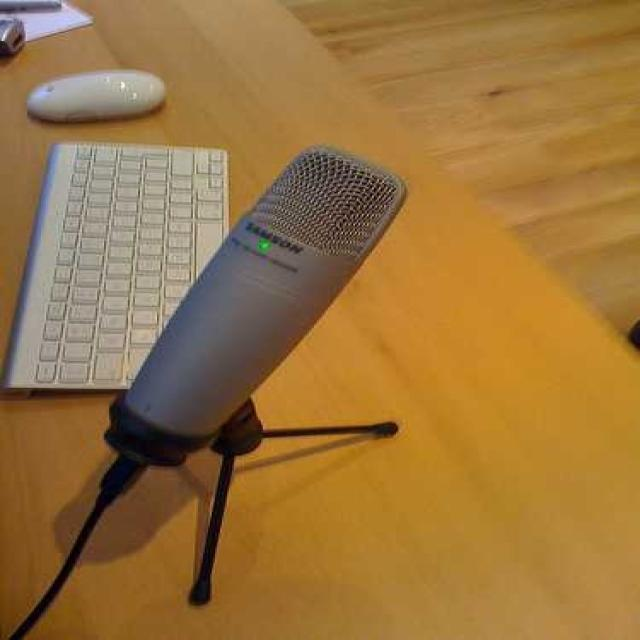microphone: (115, 144, 409, 458)
